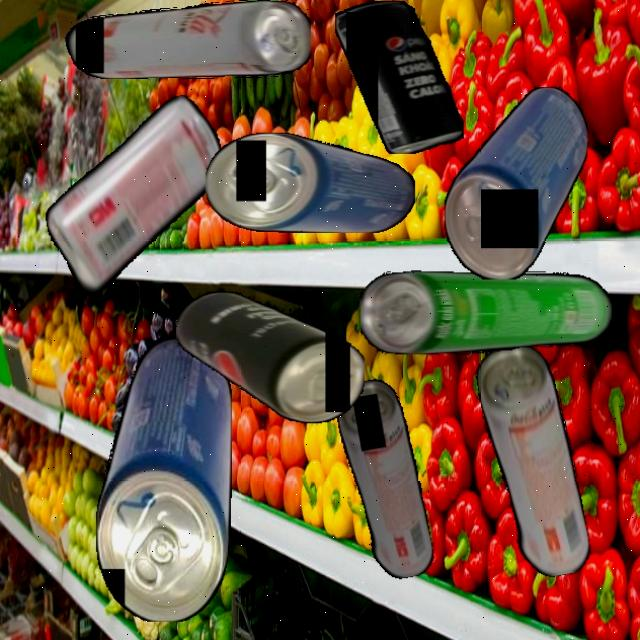debris: (29, 91, 242, 300), (95, 336, 232, 622), (472, 340, 593, 584), (443, 86, 588, 280), (175, 292, 365, 423), (332, 375, 437, 584), (360, 270, 612, 354), (206, 132, 415, 233), (335, 0, 464, 154), (62, 0, 311, 79)
